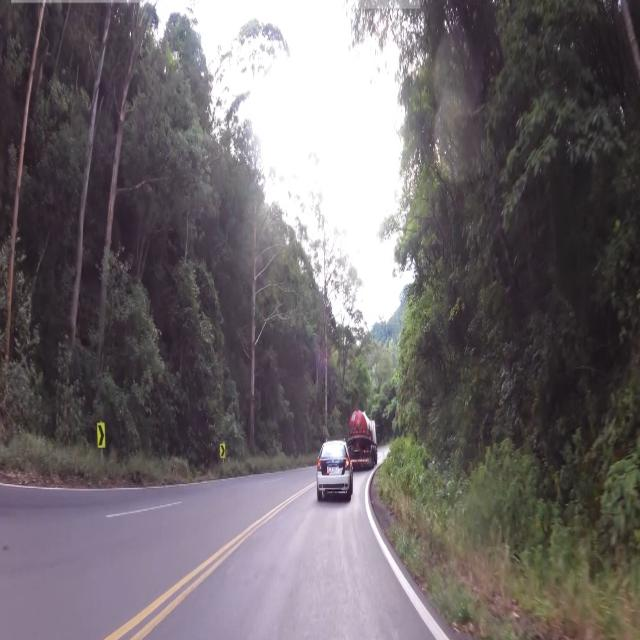Del: (94, 421, 109, 448)
